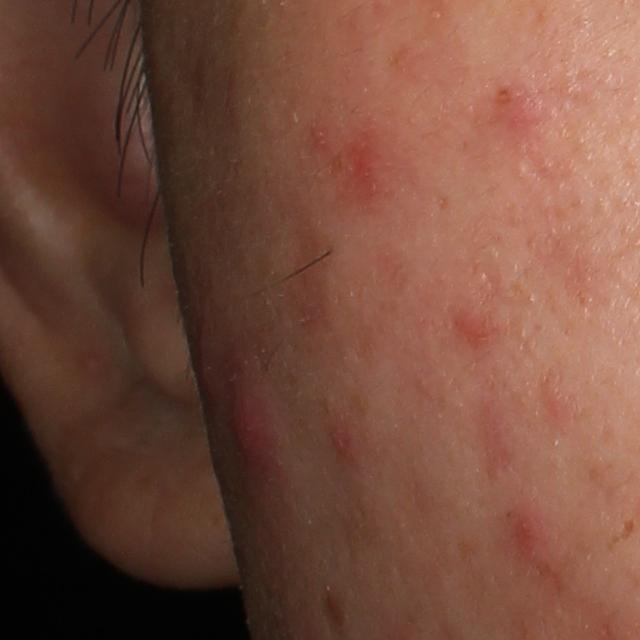papule: (221, 368, 292, 478), (348, 135, 387, 203), (488, 81, 545, 124), (454, 304, 503, 349), (514, 508, 548, 566), (329, 424, 358, 457)
